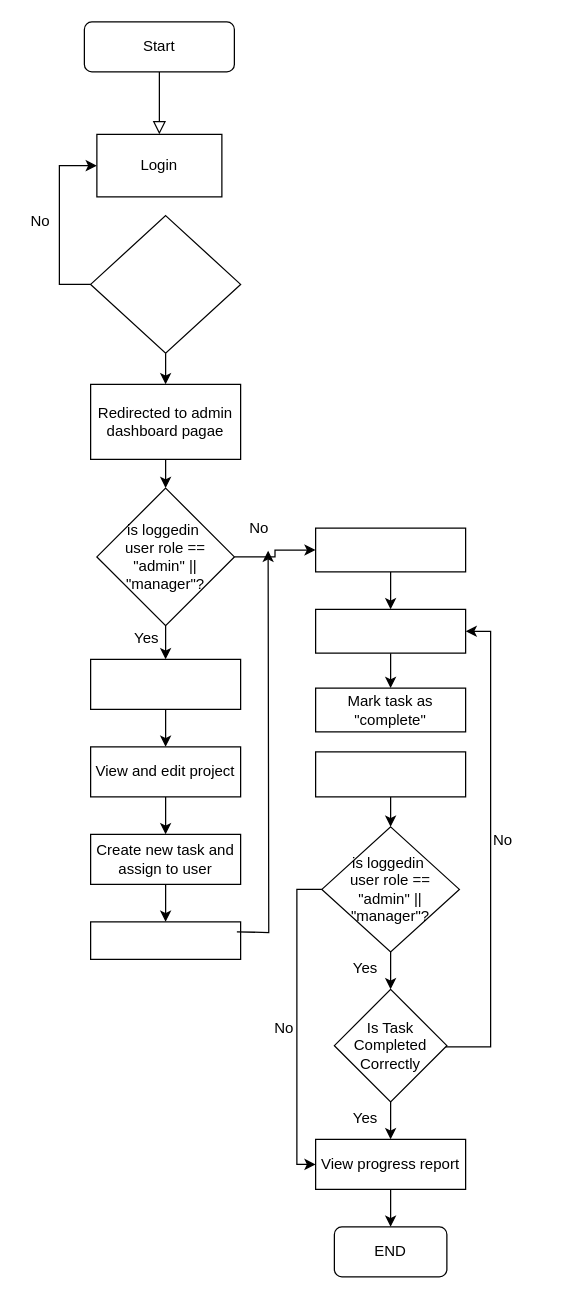
The diagram is 561 pixels wide and 1299 high, and some of its shapes have lost their labels. The centre of each missing label's shape, as x and y in pixels:
Create new project: (x=165, y=683)
Edit task: (x=165, y=940)
isValid email and password?: (x=165, y=283)
Mark task as "in progress": (x=390, y=630)
View task detail and comment task: (x=390, y=774)
View Tasks: (x=390, y=549)
